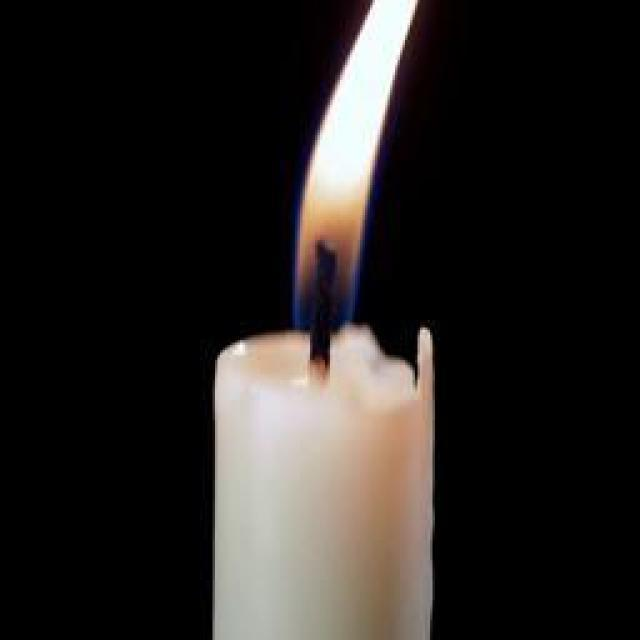Fire: (296, 0, 418, 332)
